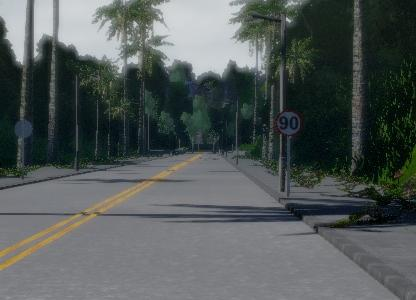Speed_90: (273, 108, 303, 139)
